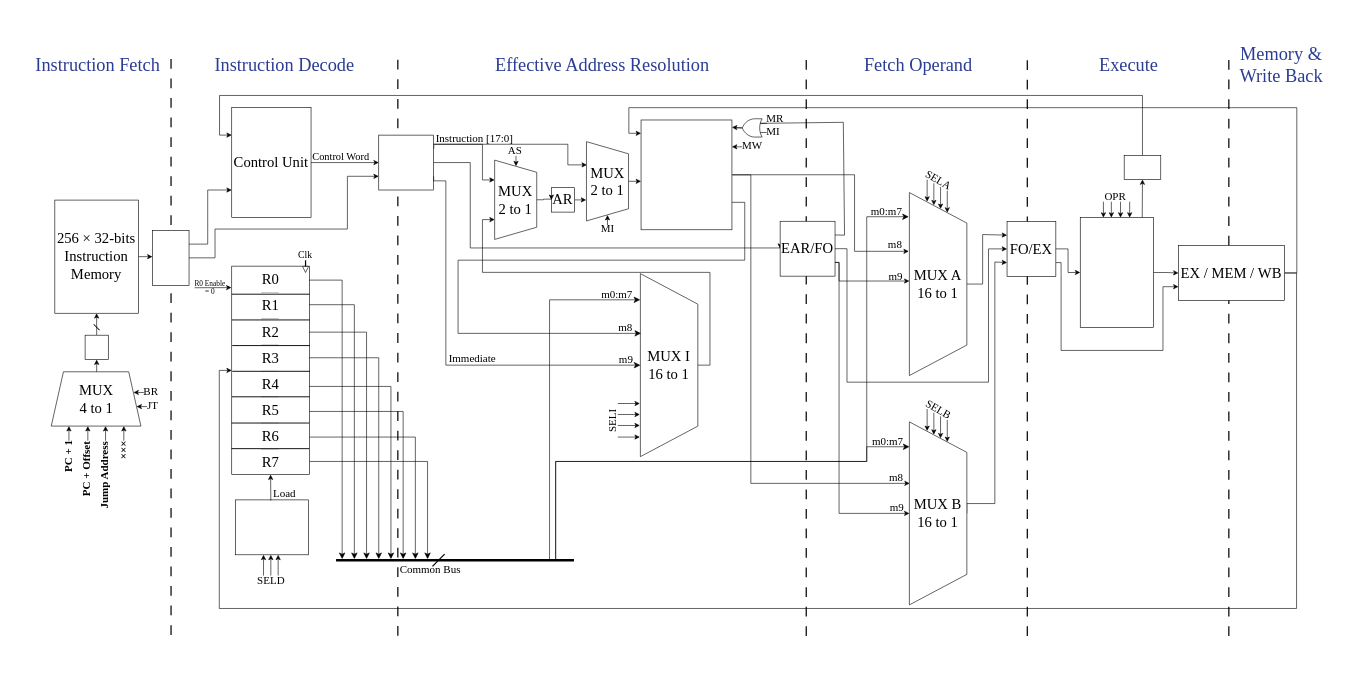
Some shapes in this 1363 by 691 pixel diagram are drawn without their labels. Here are the shapes that lost their labels. From the top down, the centre of each, then its label:
At point (406, 162): "ID/EAR".
At point (686, 174): "256k × 32-bits Data Memory".
At point (1142, 167): "PSW".
At point (170, 257): "IF/ID".
At point (1116, 272): "Arithmetic Logic Unit".
At point (96, 347): "PC".
At point (272, 527): "Decoder 3 to 8".
